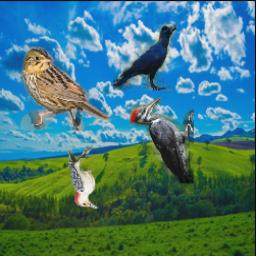Crow: (113, 25, 176, 92)
Sparrow: (20, 46, 110, 131)
Woodpecker: (131, 97, 195, 183), (68, 145, 99, 210)
